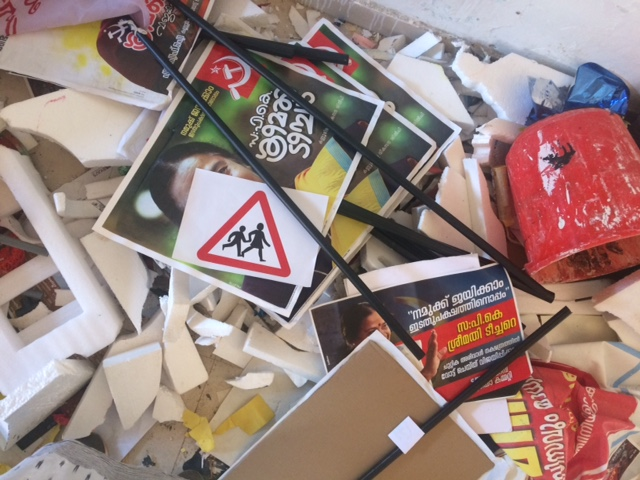sign: (196, 190, 293, 280)
